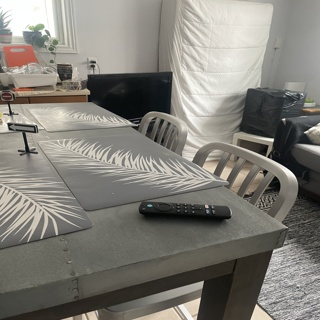sign_oneway_left: (7, 122, 38, 132)
